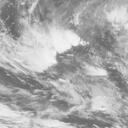cyclone: (37, 32, 101, 95)
